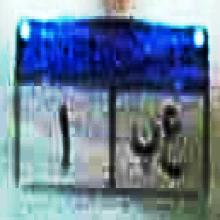1: (56, 100, 72, 166)
ain: (161, 103, 183, 179)
baa: (131, 124, 159, 161)
